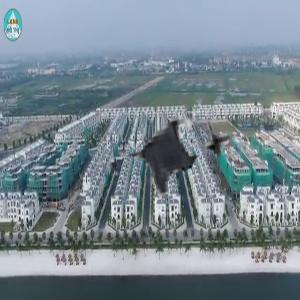drone: (82, 88, 253, 259)
